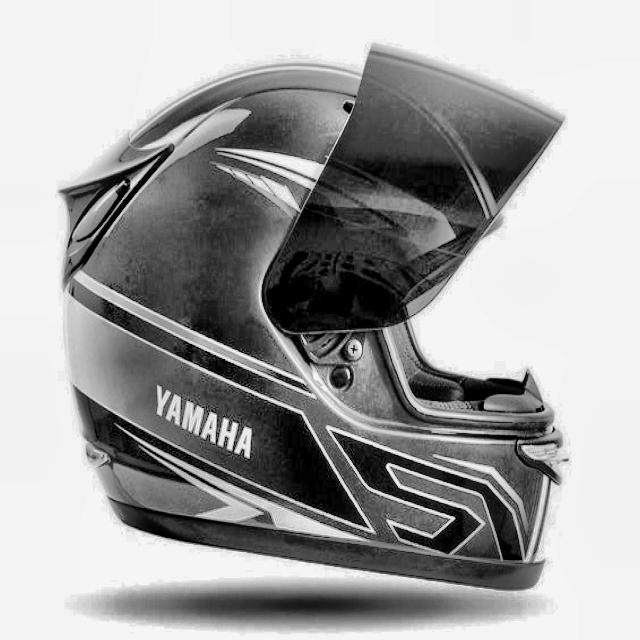Helmet: (53, 49, 596, 609)
